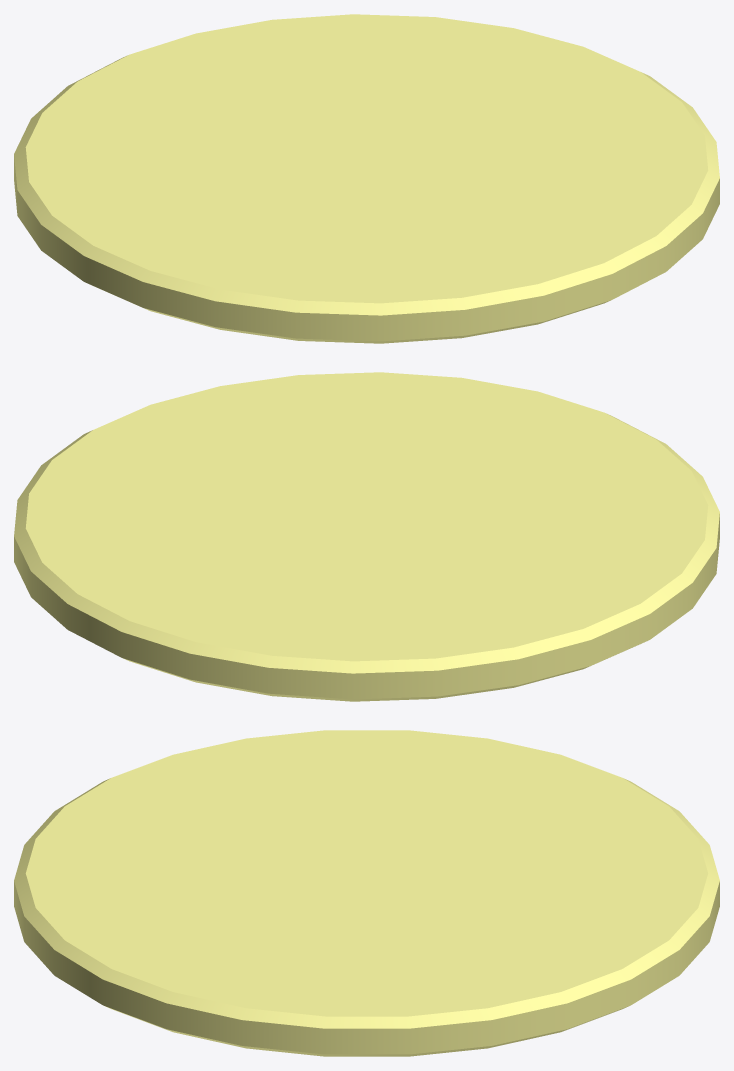
Rendered from FinalsCoin_LP.fbx.
The picture shows the model from 3 angles, top to bottom: view 1: azimuth 30°, elevation 25°; view 2: azimuth 150°, elevation 25°; view 3: azimuth 270°, elevation 25°; orthographic projection.
Visible parts, largest first — view 1: Bake; view 2: Bake; view 3: Bake.
Part boxes in pixels (x1,y1,x2,y2): Bake: [14, 14, 719, 343]; Bake: [14, 372, 719, 701]; Bake: [14, 730, 719, 1056].
Size of the model in its own units: 66.32 by 4.23 by 66.81.
